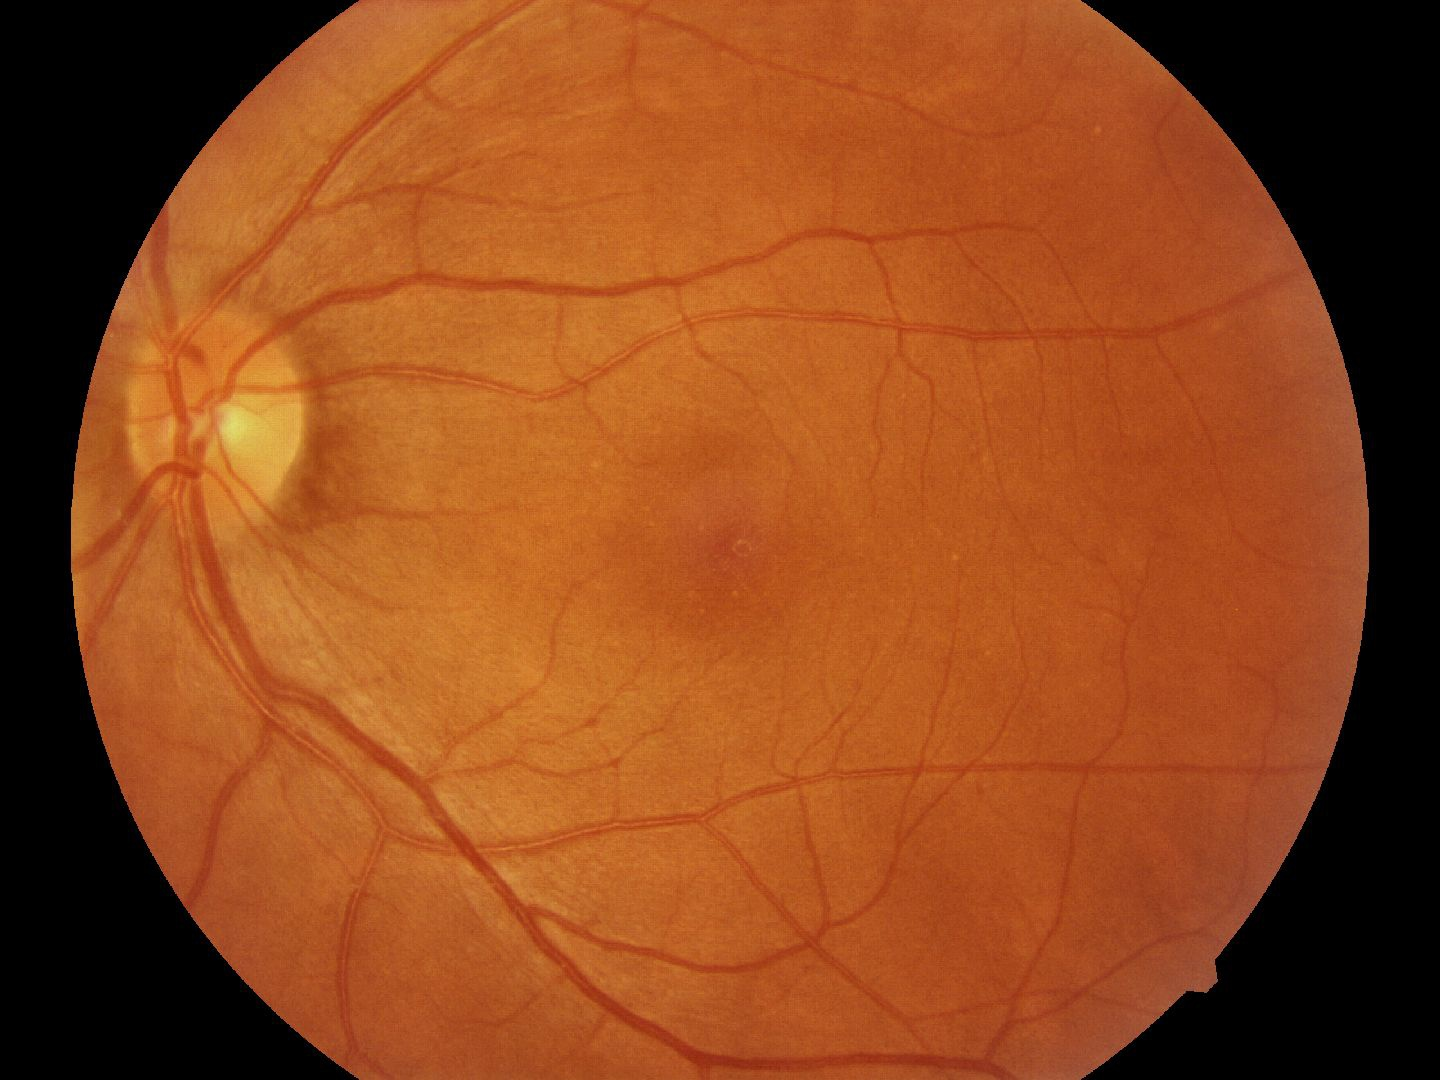Optic-Disc: (126, 282, 304, 533)
Venules: (222, 587, 525, 934), (361, 259, 636, 388)
